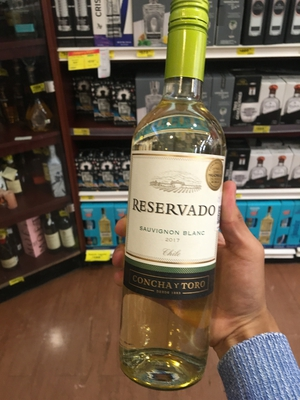reservado sauvignon blanc: (106, 14, 248, 380)
